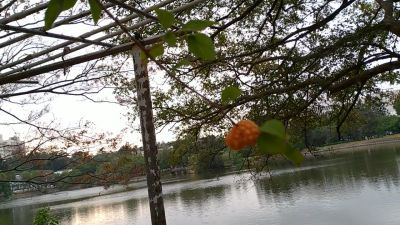eggs: (226, 118, 260, 152)
